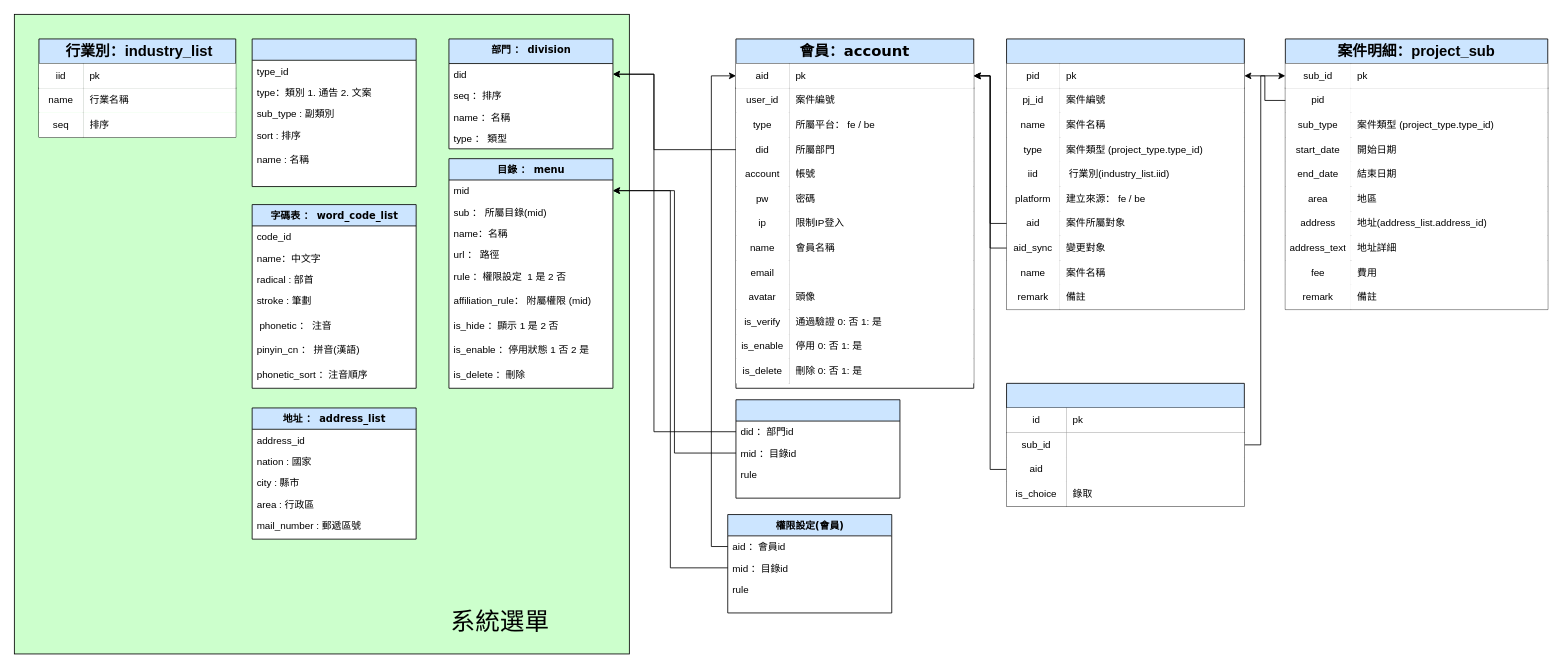
This 1562x668 diagram has some shape labels left out. The box of each missing label's shape, as (x1, y1, x2, y2) in pixels:
應徵名單：candidate: (1006, 383, 1244, 506)
案件類別 ：project_type: (251, 38, 416, 187)
案件：project_basic: (1006, 38, 1244, 310)
權限設定(部門): (735, 399, 900, 498)
